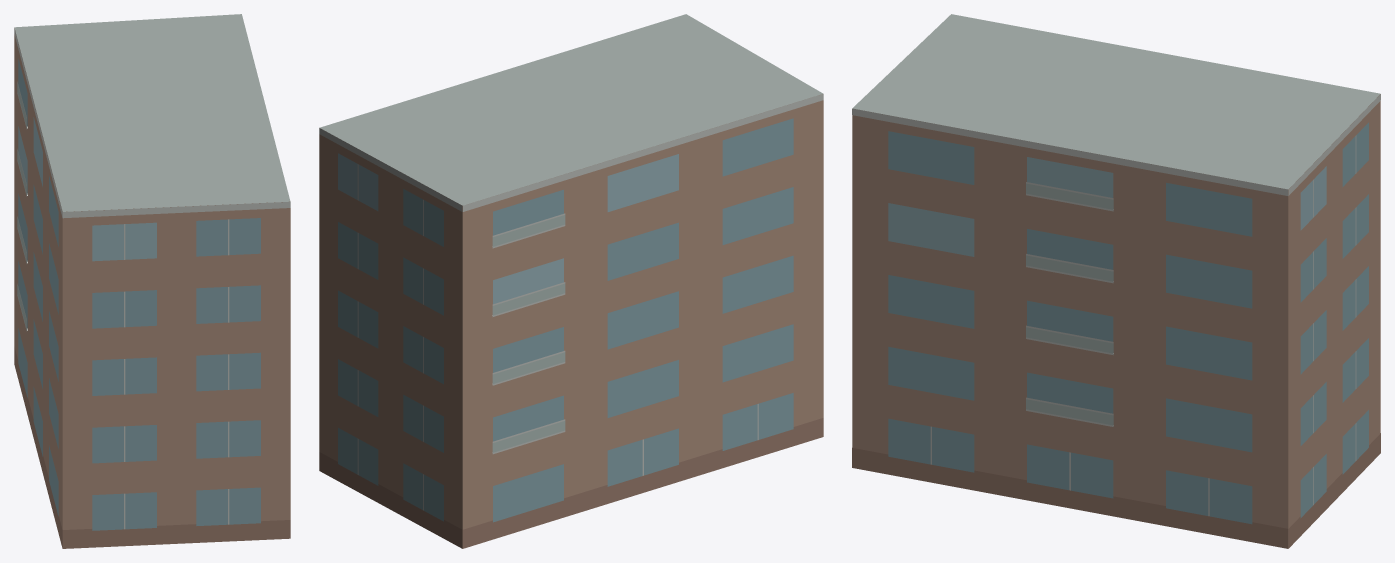
Rendered from survey-upis-32964769.glb.
3 views of the same model, side by side, from view 1: azimuth 30°, elevation 25°; view 2: azimuth 150°, elevation 25°; view 3: azimuth 270°, elevation 25° (orthographic). The views are drawn at different scales.
Parts seen in each view (by area): view 1: survey-upis-32964769.tmp; view 2: survey-upis-32964769.tmp; view 3: survey-upis-32964769.tmp.
Boxes of the visible parts, x1,y1,x2,y2 form: survey-upis-32964769.tmp: [14, 14, 290, 548]; survey-upis-32964769.tmp: [319, 14, 823, 548]; survey-upis-32964769.tmp: [852, 14, 1380, 548].
Bounding box in the file's own units: 13.73 × 13.1 × 17.47.
